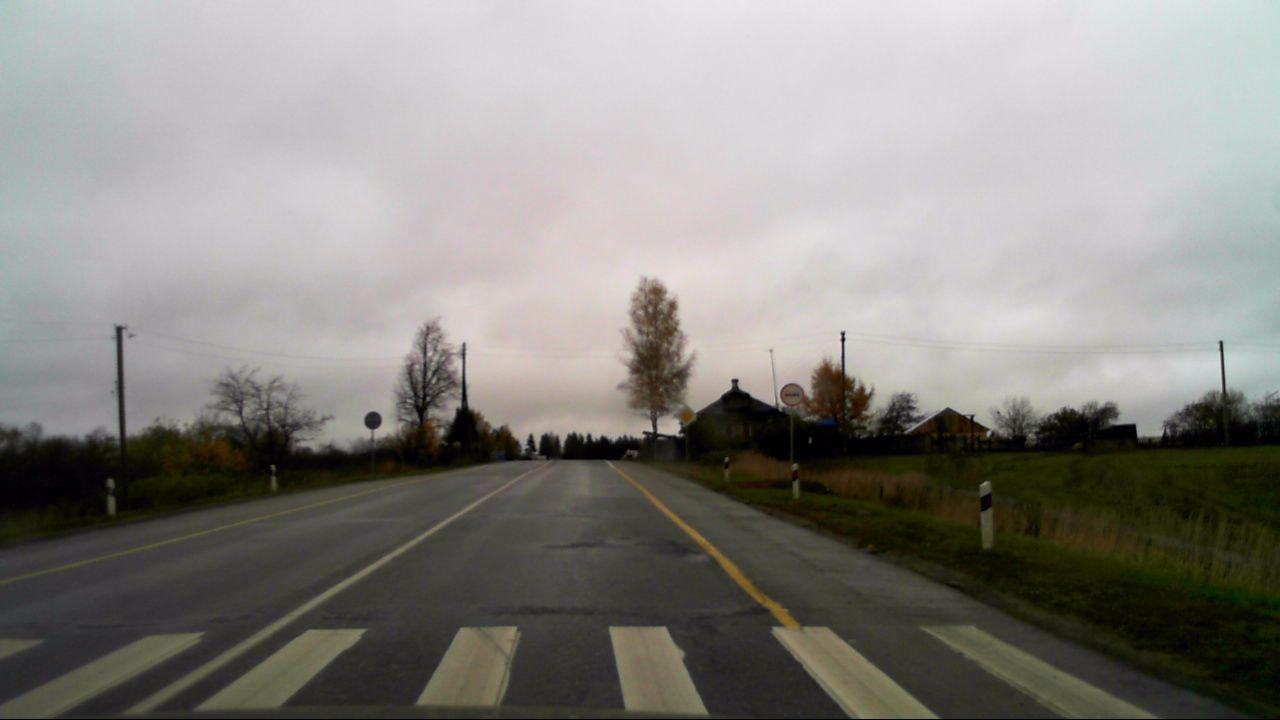road_sign: (779, 381, 805, 408)
